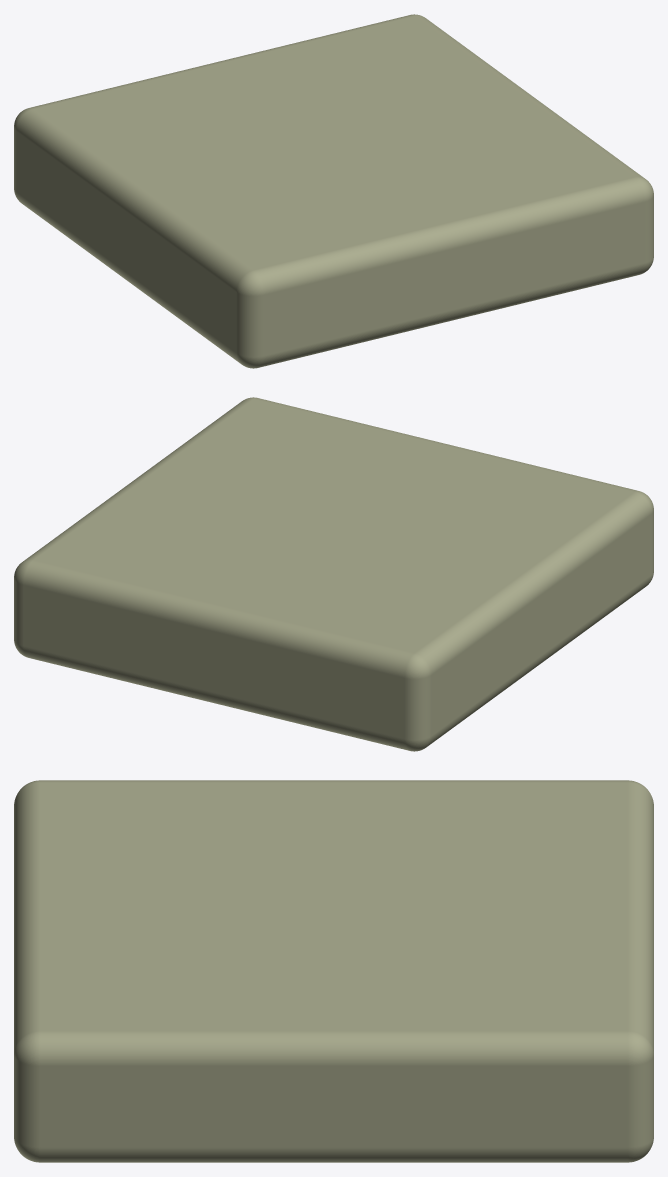
Rendered from CouchCushion.glb.
3 renders of one model, top to bottom at view 1: azimuth 30°, elevation 25°; view 2: azimuth 150°, elevation 25°; view 3: azimuth 270°, elevation 25°, orthographic. The views are drawn at different scales.
Parts seen in each view (by area): view 1: CouchCushion-convcol; view 2: CouchCushion-convcol; view 3: CouchCushion-convcol.
Boxes of the visible parts, x1,y1,x2,y2 form: CouchCushion-convcol: [14, 14, 653, 368]; CouchCushion-convcol: [14, 397, 653, 751]; CouchCushion-convcol: [14, 780, 653, 1162].
Size of the model in its own units: 9 by 2 by 9.
